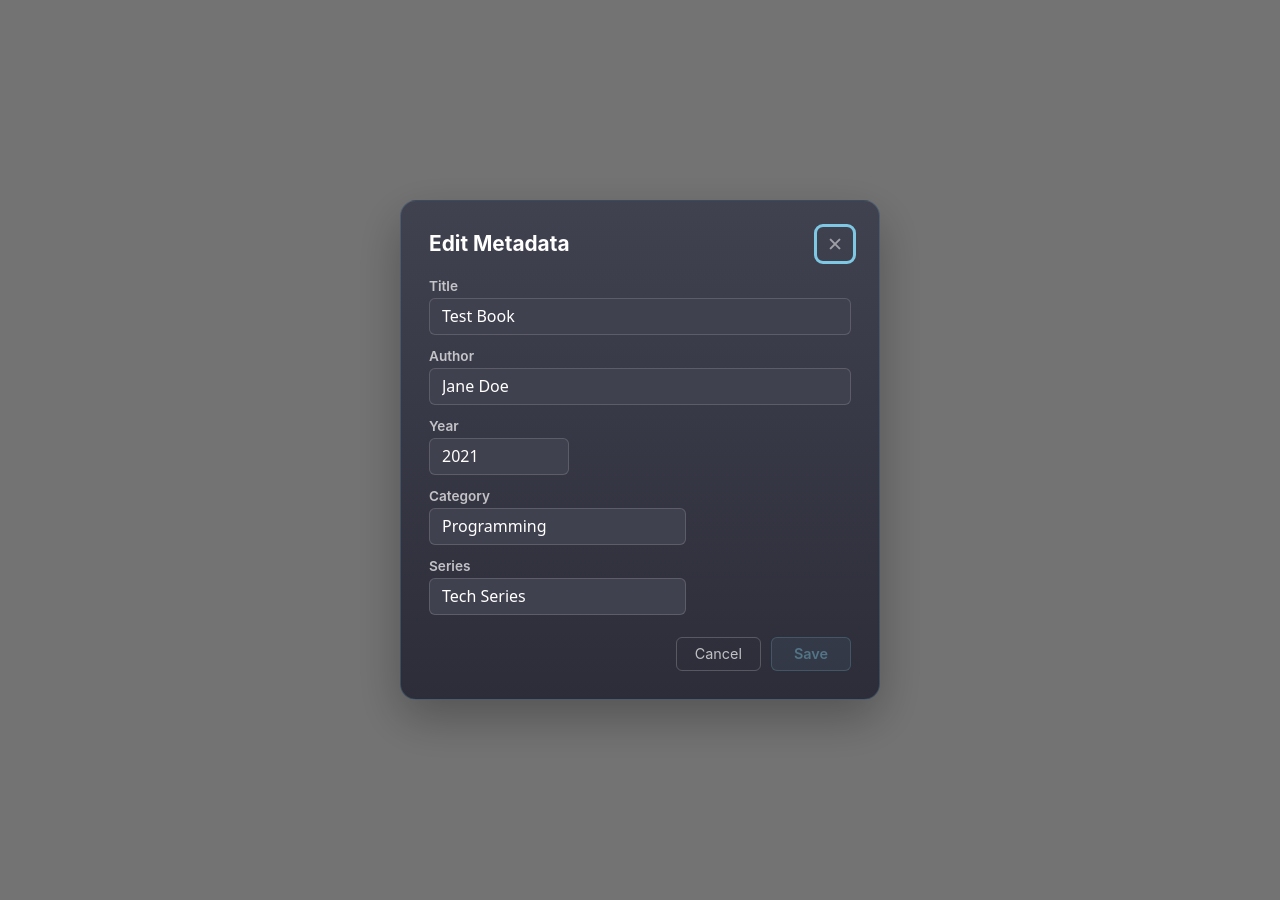
Test: MetadataEditModal › shows generic error when API returns non-JSON error
The width and height of the screenshot is (1280, 900).
Replace the text in the field labelled "Author" with "New Author" at point(640, 387), box [429, 368, 851, 405]
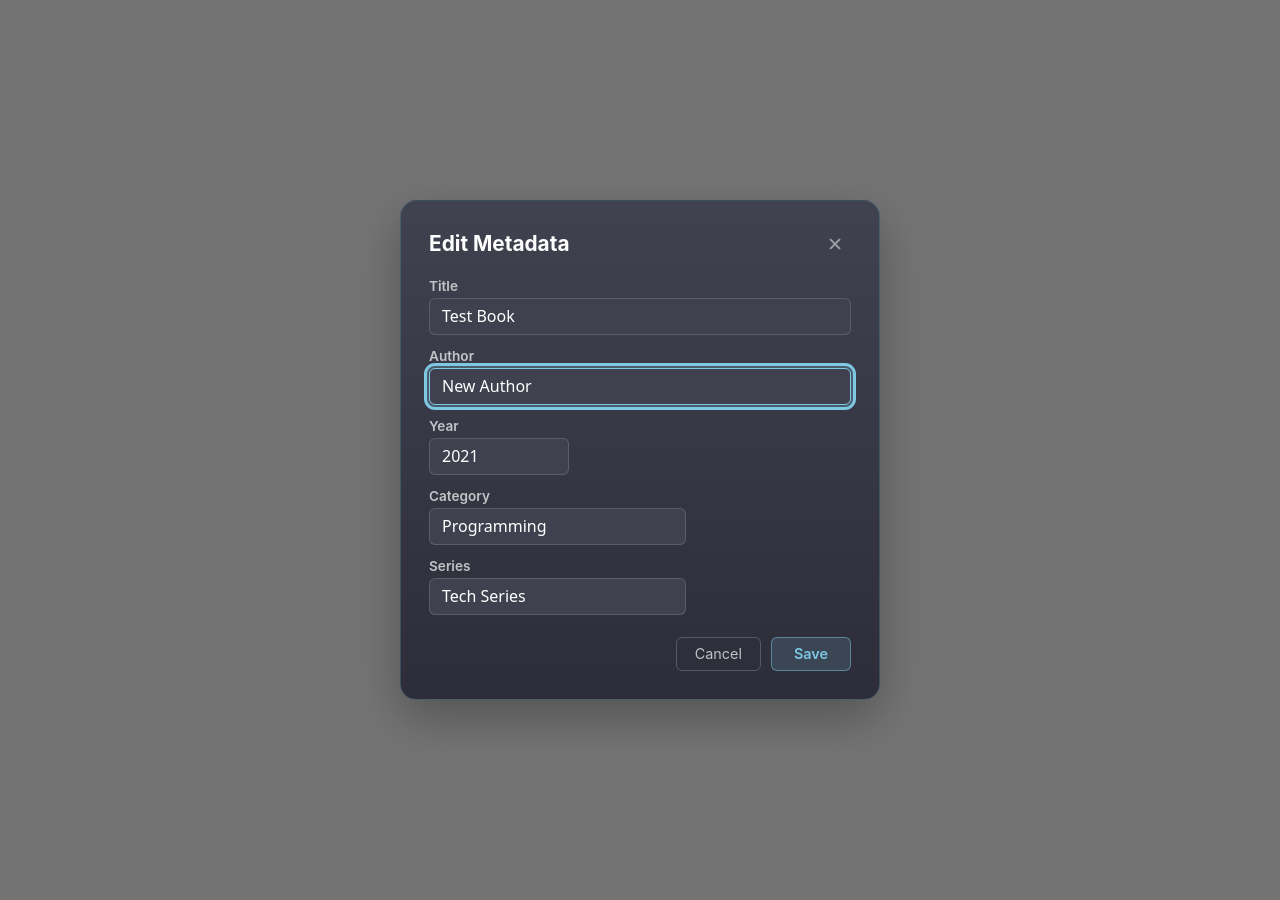
Click the button "Save".
click(811, 654)  # box [771, 637, 851, 671]
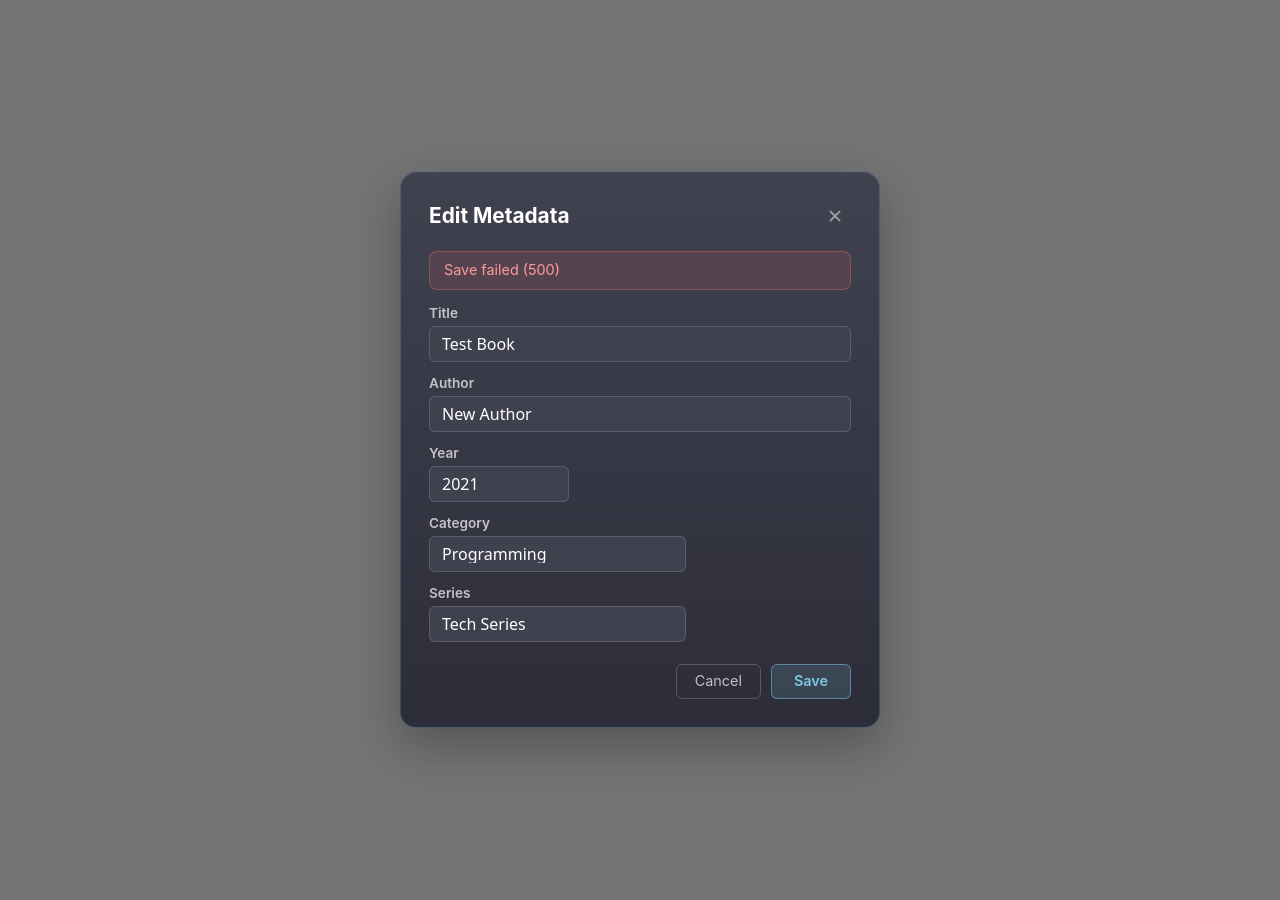
Result: the message shows "Save failed" at [444, 261, 560, 278]
